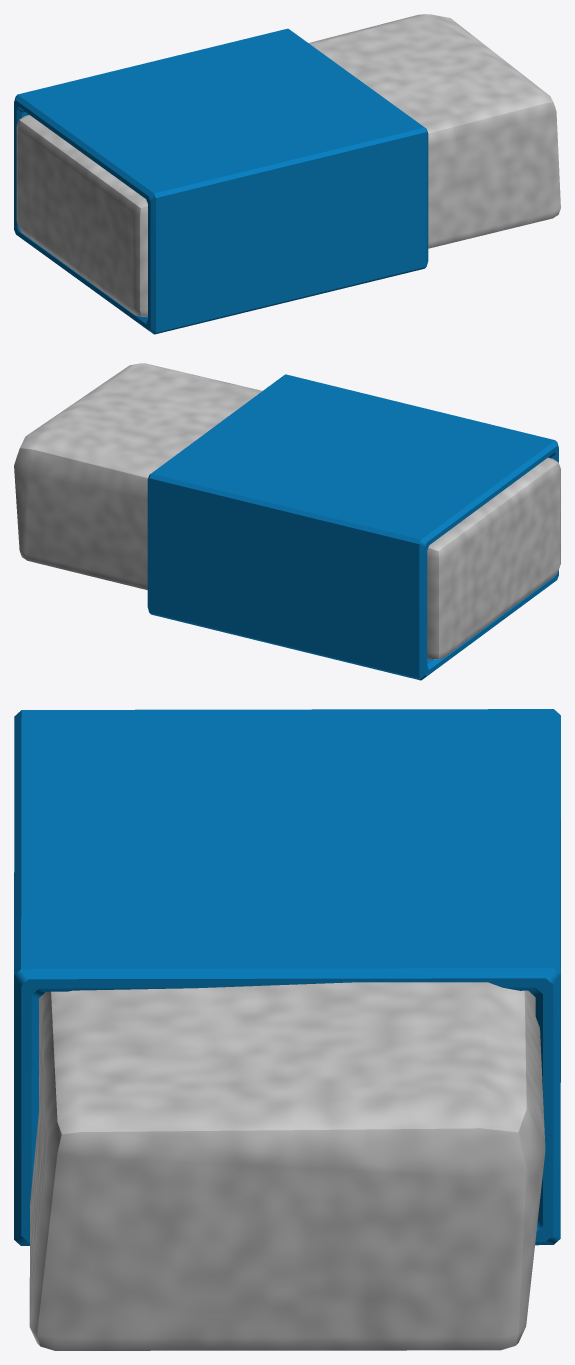
Rendered from eraser_lp.fbx.
3 renders of one model, top to bottom at view 1: azimuth 30°, elevation 25°; view 2: azimuth 150°, elevation 25°; view 3: azimuth 270°, elevation 25°, orthographic. The views are drawn at different scales.
Visible parts, largest first — view 1: eraser_cloth_lp, eraser_body_lp; view 2: eraser_cloth_lp, eraser_body_lp; view 3: eraser_body_lp, eraser_cloth_lp.
Part boxes in pixels (x1,y1,x2,y2): eraser_cloth_lp: (14,28,428,334); eraser_body_lp: (16,14,560,316); eraser_cloth_lp: (147,374,558,680); eraser_body_lp: (14,363,560,659); eraser_body_lp: (29,982,545,1350); eraser_cloth_lp: (14,709,560,1245).
Size of the model in its own units: 4.52 by 1.4 by 2.5.
2 materials, 2 textured.
